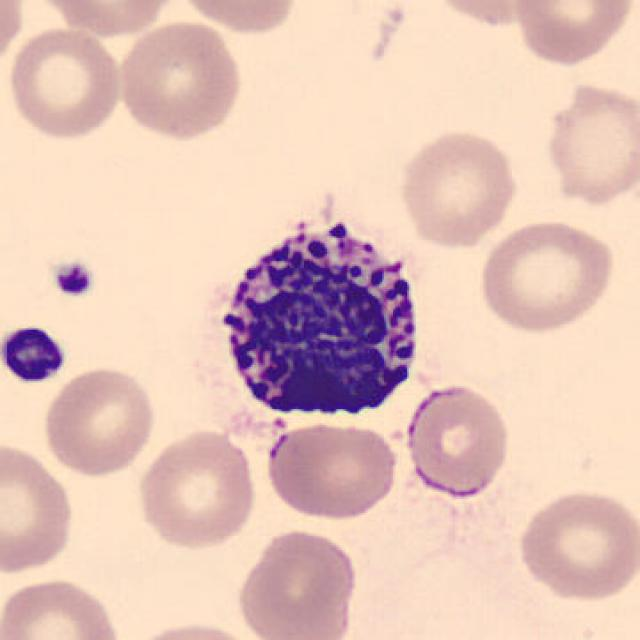Basophil: (198, 204, 438, 436)
Platelets: (0, 322, 69, 386), (48, 258, 98, 302)
RBC: (474, 215, 618, 337), (132, 425, 260, 552), (114, 18, 245, 142), (395, 126, 521, 250), (231, 523, 361, 640), (261, 418, 402, 524), (514, 485, 636, 605), (4, 23, 126, 143), (37, 361, 160, 478), (402, 381, 514, 501), (540, 78, 638, 210), (0, 437, 78, 577), (508, 0, 638, 69), (0, 573, 124, 640), (25, 0, 183, 39), (172, 0, 304, 37), (425, 0, 560, 30), (119, 617, 267, 640), (0, 2, 27, 76)
